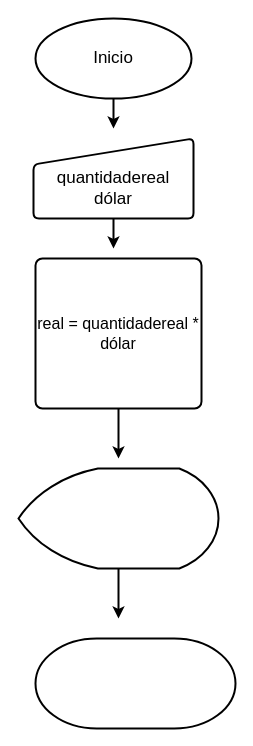
The diagram is 253 pixels wide and 746 high, and some of its shapes have lost their labels. Each missing label, with the centre of its shape:
Fim: (135,683)
real: (118,518)
